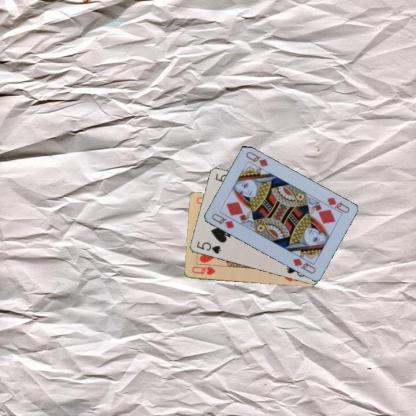5s: (193, 238, 222, 254)
Qd: (320, 194, 351, 216), (209, 211, 235, 230)
Qh: (189, 264, 217, 277)
